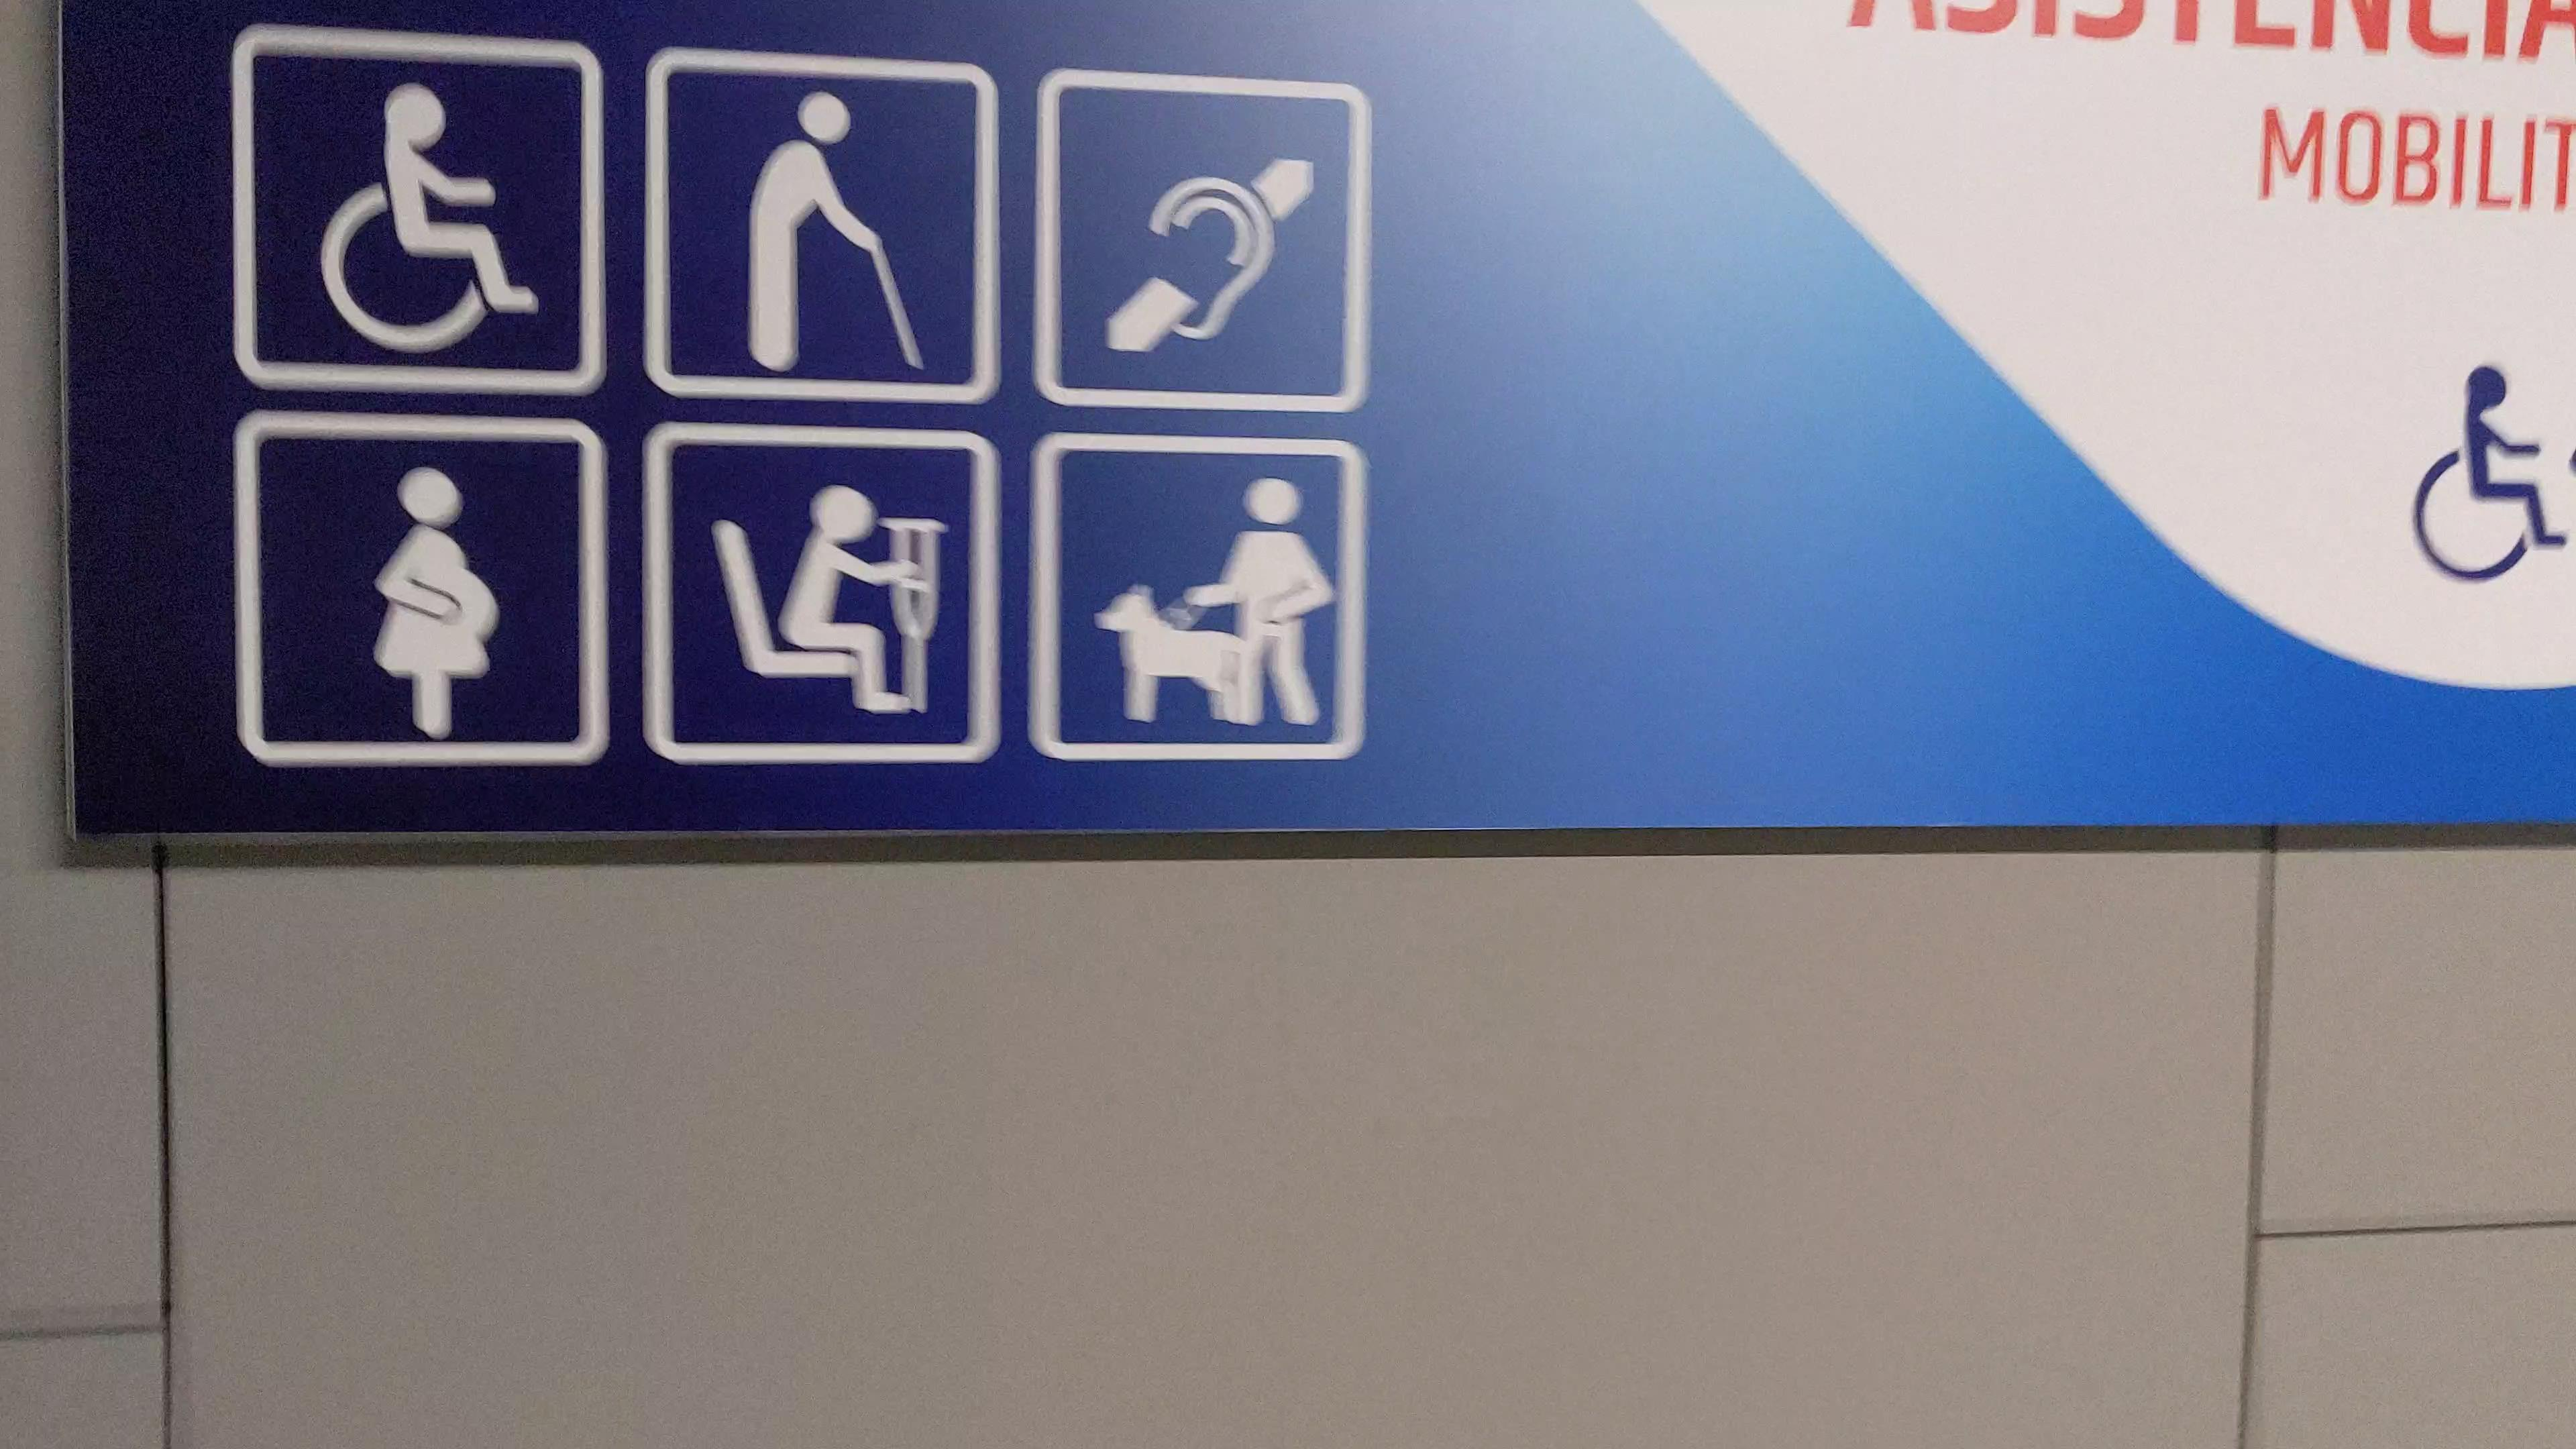handicapped symbol: (308, 81, 540, 356), (2406, 357, 2569, 596)
